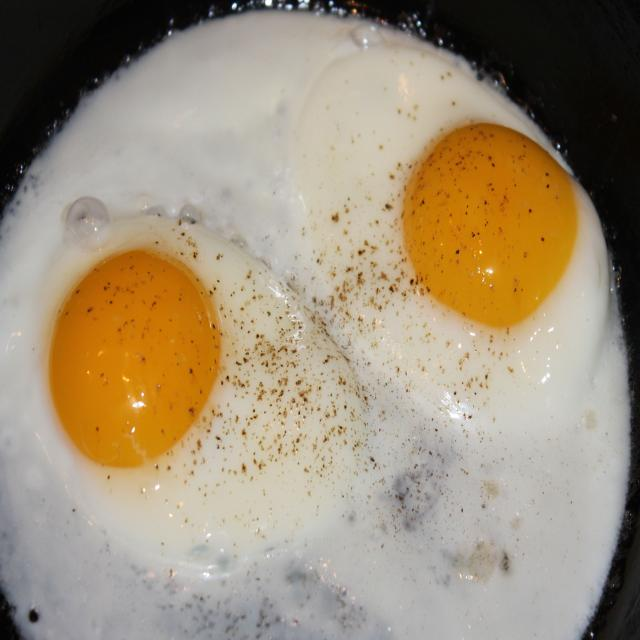Egg: (298, 45, 629, 502), (0, 216, 365, 568)
